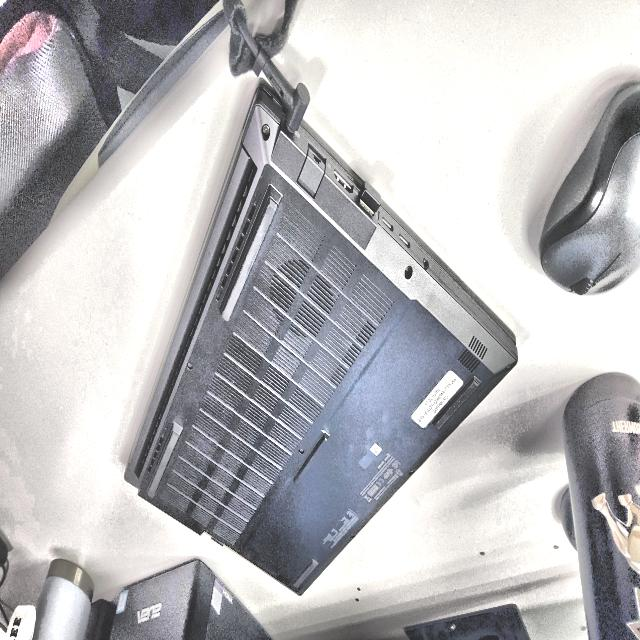Laptop: (125, 84, 517, 595)
MOUSE: (540, 84, 640, 295)
